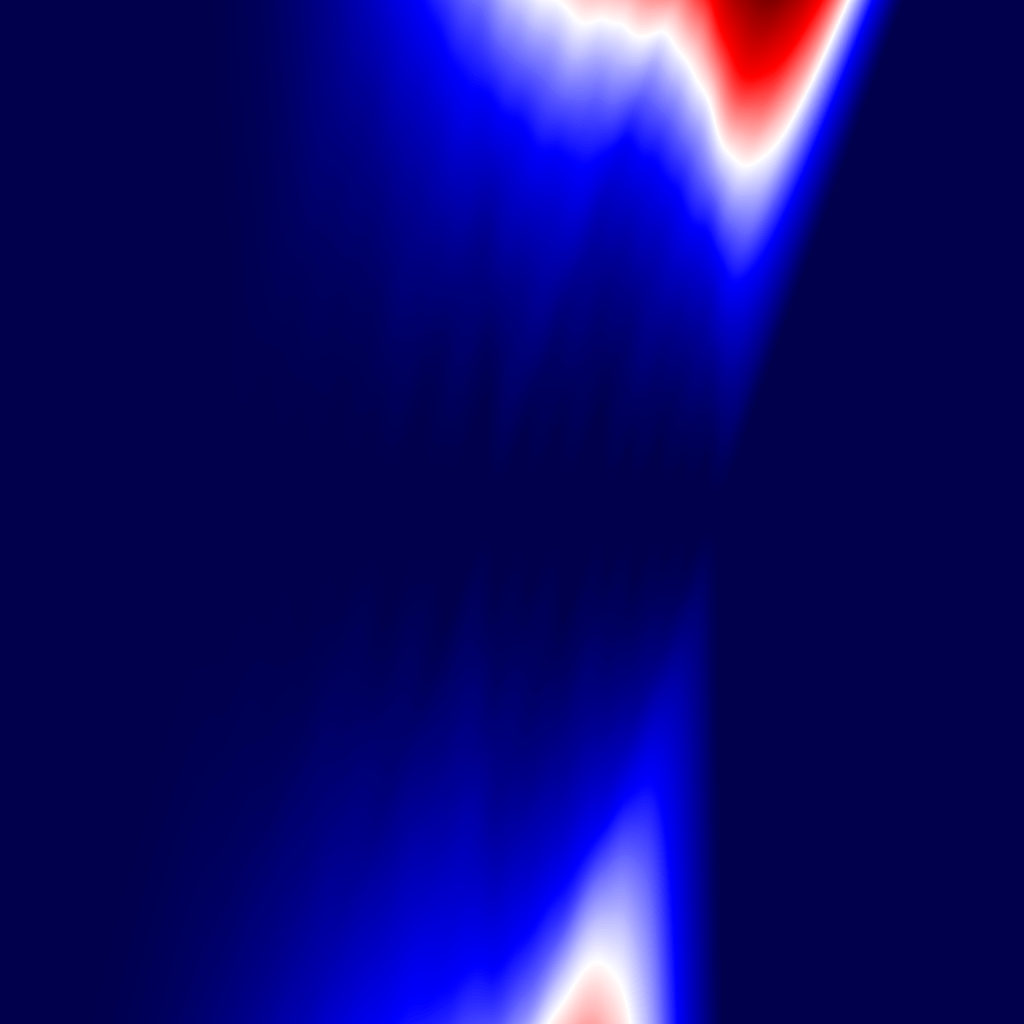diamond: (136, 275, 224, 749), (224, 392, 269, 632), (447, 393, 491, 631), (564, 396, 607, 628), (305, 410, 343, 614), (389, 413, 426, 611), (269, 418, 304, 606), (530, 420, 564, 604), (498, 426, 530, 598), (688, 430, 719, 594), (344, 430, 374, 594), (635, 433, 664, 591), (608, 440, 635, 584), (665, 451, 688, 573), (427, 461, 446, 563), (374, 472, 389, 552), (492, 495, 498, 529)
